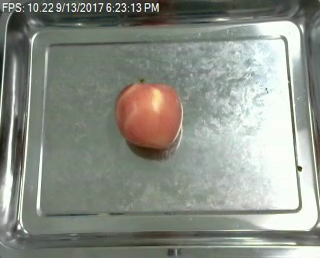Apple: (111, 80, 187, 150)
